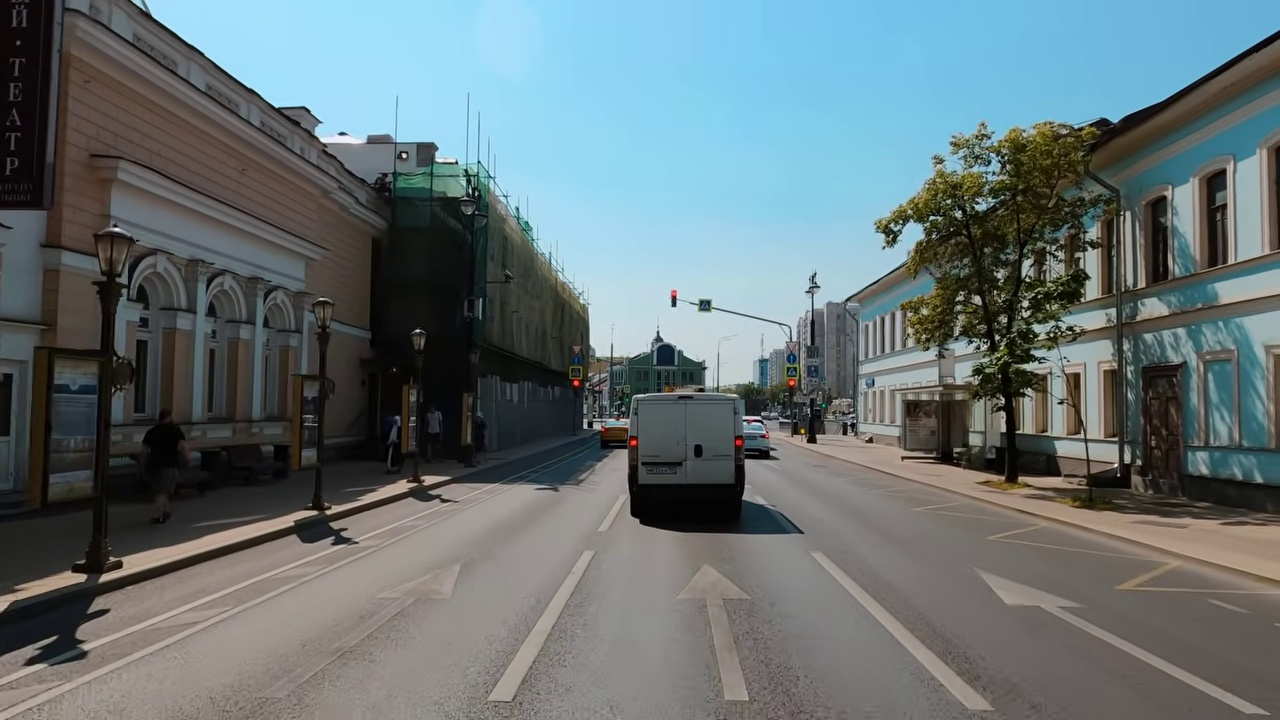apagada: (801, 273, 822, 298)
